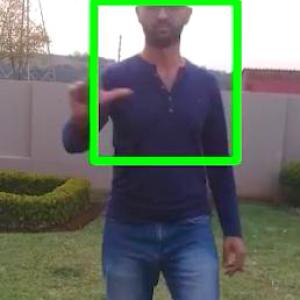land_hand: (58, 42, 137, 120)
